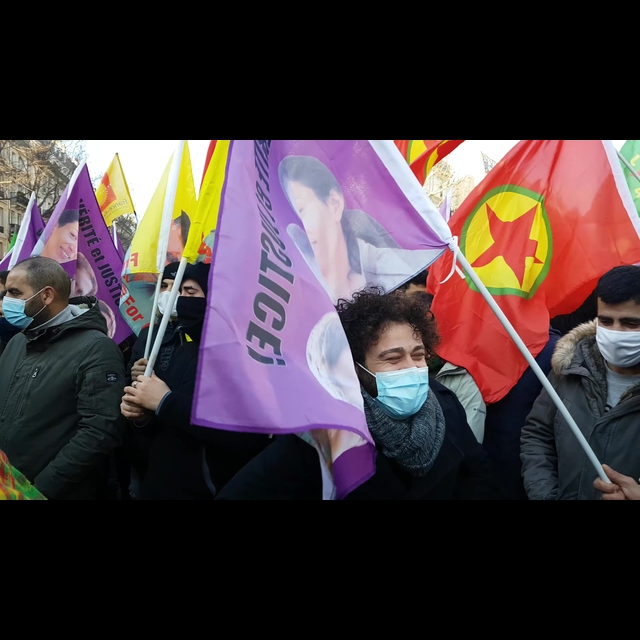PKK: (450, 180, 562, 301)
